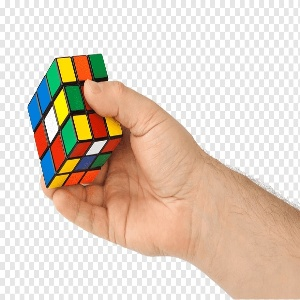cube: (27, 54, 124, 185)
